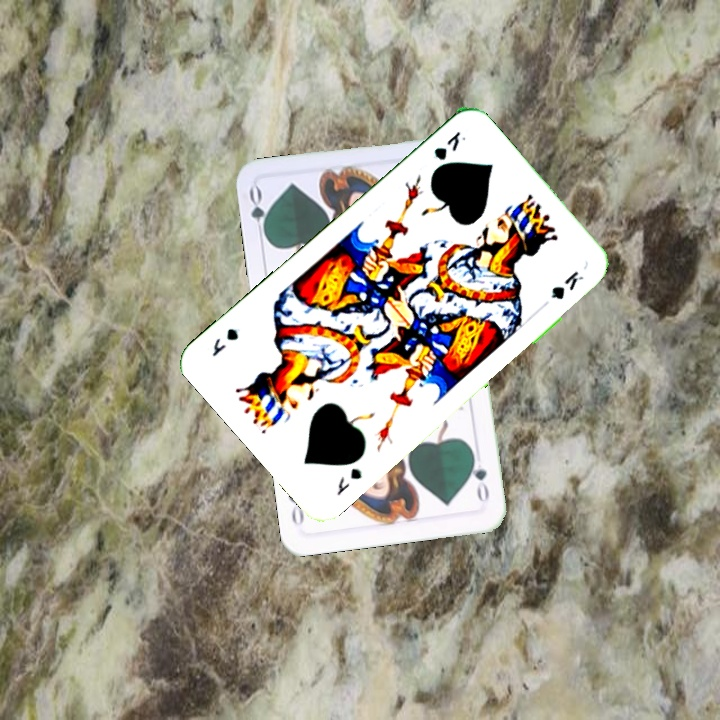GK: (429, 127, 463, 163), (332, 463, 365, 499)
GO: (245, 183, 273, 243), (466, 448, 492, 505)
